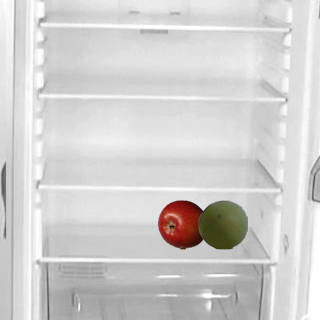Apple Braeburn: (157, 199, 207, 249)
Grape White 4: (197, 199, 247, 249)
